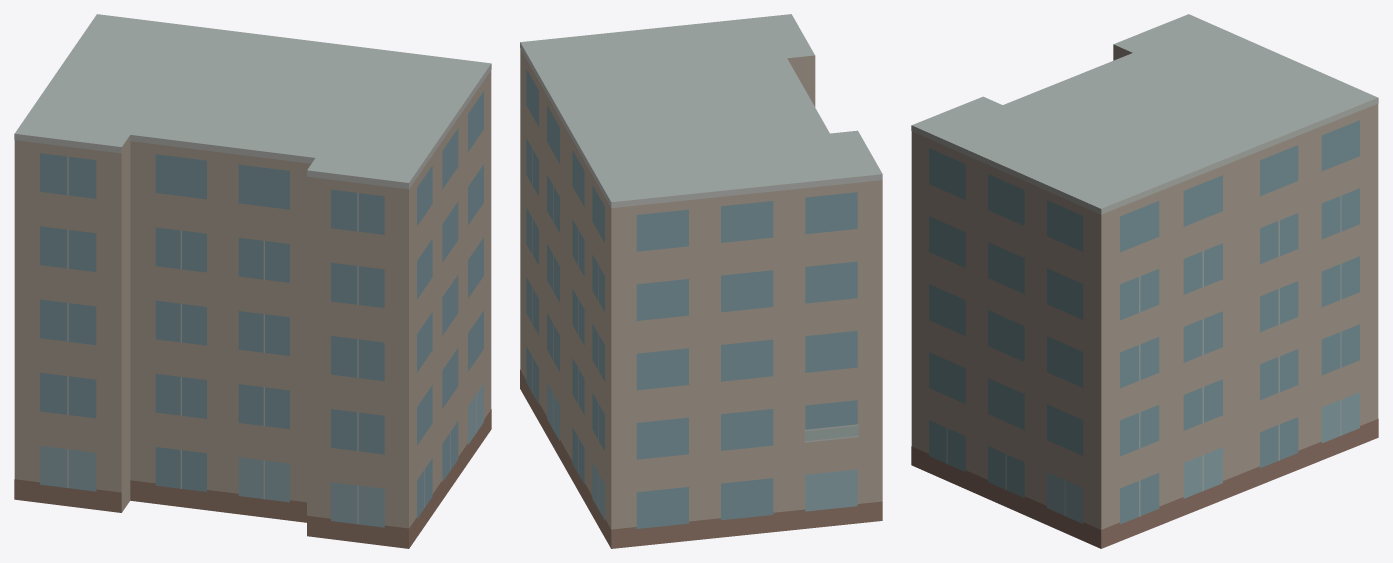
Rendered from survey-upis-32926132.glb.
The picture shows the model from 3 angles, left to right: view 1: azimuth 30°, elevation 25°; view 2: azimuth 150°, elevation 25°; view 3: azimuth 270°, elevation 25°; orthographic projection. The views are drawn at different scales.
Visible parts, largest first — view 1: survey-upis-32926132.tmp; view 2: survey-upis-32926132.tmp; view 3: survey-upis-32926132.tmp.
Part boxes in pixels (bbox=[...]): survey-upis-32926132.tmp: bbox=[14, 14, 491, 548]; survey-upis-32926132.tmp: bbox=[520, 14, 882, 548]; survey-upis-32926132.tmp: bbox=[911, 14, 1378, 548].
Size of the model in its own units: 17.47 by 14.2 by 17.68.
